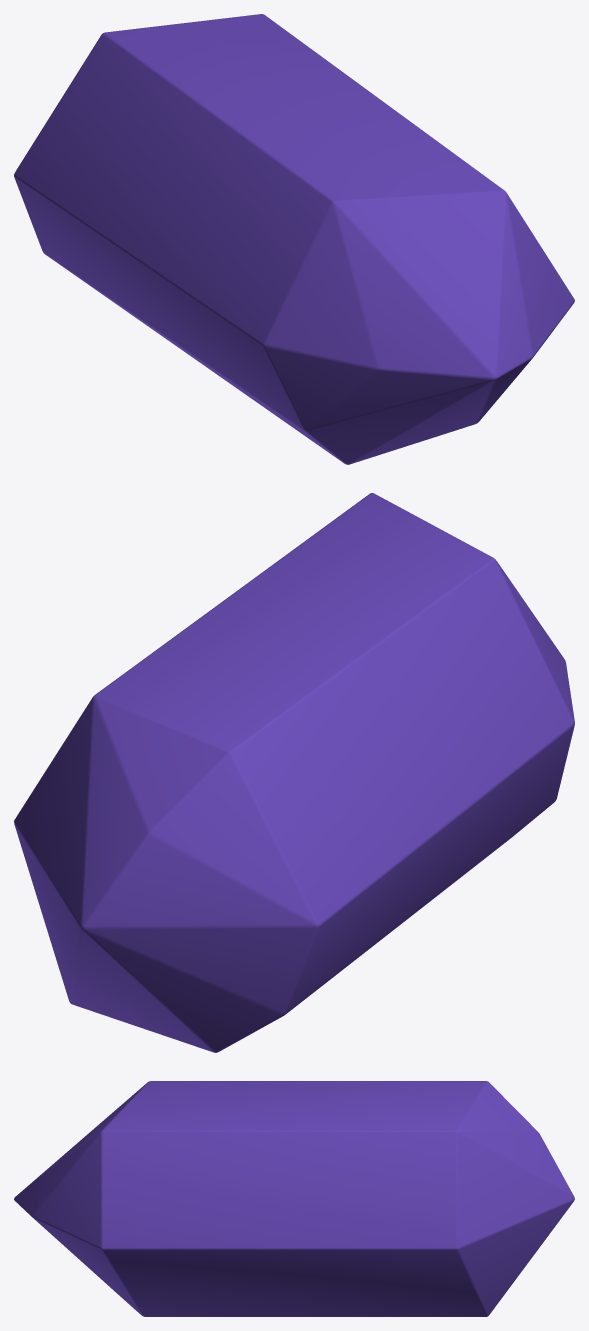
Rendered from Crystal_3.fbx.
3 views of the same model, one above another, from view 1: azimuth 30°, elevation 25°; view 2: azimuth 150°, elevation 25°; view 3: azimuth 270°, elevation 25° (orthographic). The views are drawn at different scales.
Visible parts, largest first — view 1: Cylinder037; view 2: Cylinder037; view 3: Cylinder037.
Part boxes in pixels (x1=…): Cylinder037: x1=14, y1=14, x2=574, y2=464; Cylinder037: x1=14, y1=493, x2=574, y2=1052; Cylinder037: x1=14, y1=1081, x2=574, y2=1316.
Bounding box in the file's own units: 3.33 × 2.76 × 7.54.
